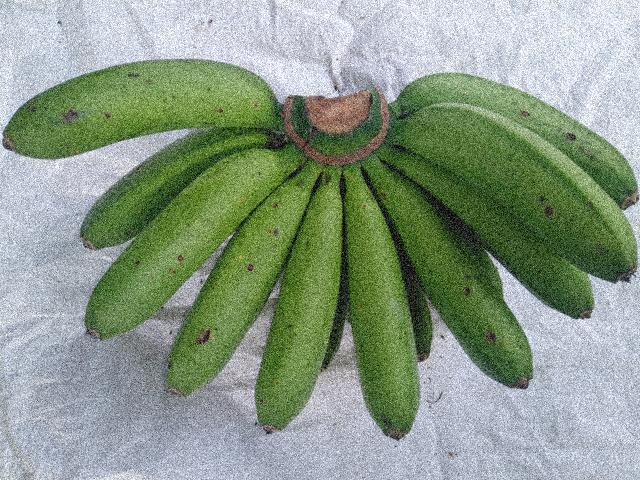unripe: (404, 93, 639, 294), (0, 57, 293, 159), (331, 155, 421, 477), (253, 189, 353, 443)
